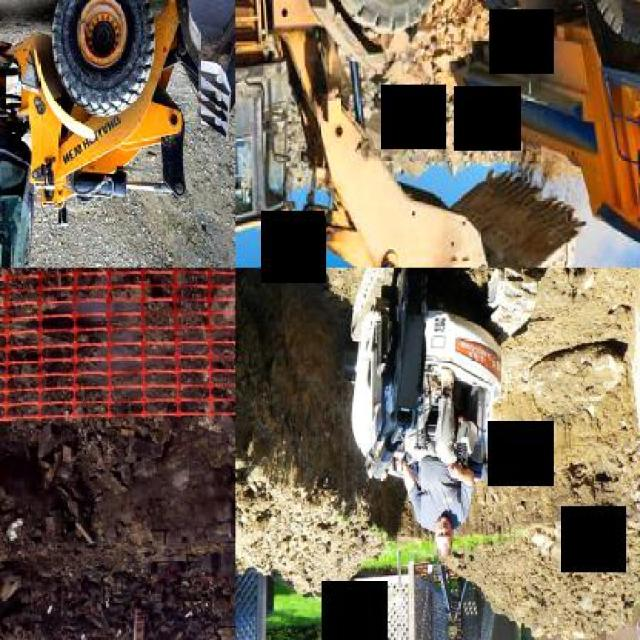buldozerpayloadergrader: (235, 0, 591, 266), (0, 0, 234, 266)
dump_truck: (446, 0, 639, 266)
excavator: (348, 268, 540, 557)
